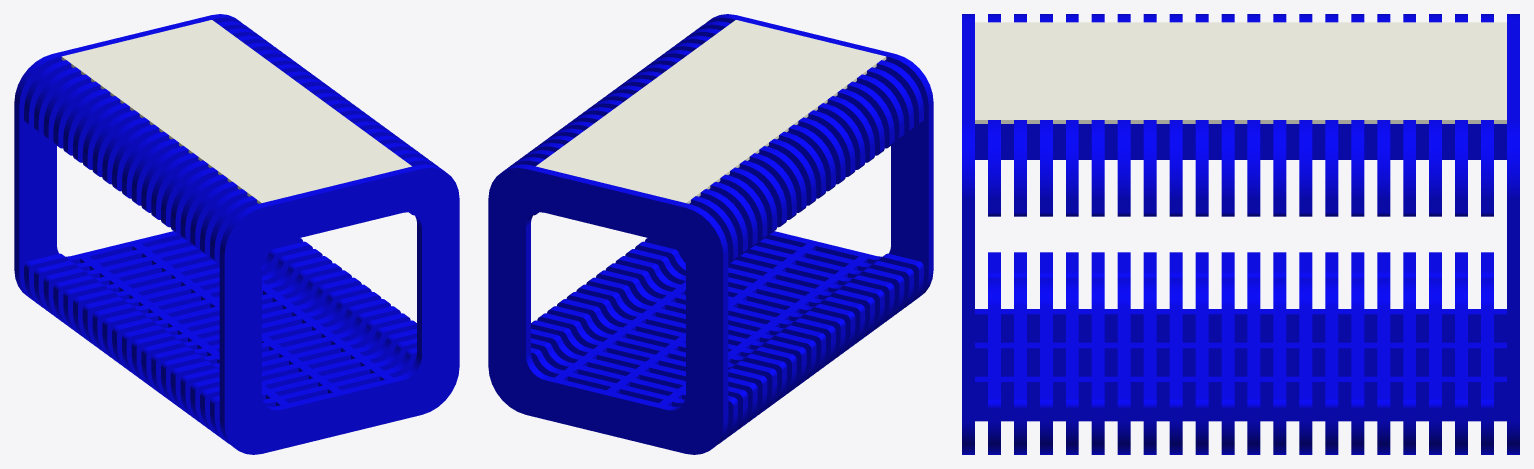
File: cube_1_bl_bone.glb
3 views of the same model, side by side, from view 1: azimuth 30°, elevation 25°; view 2: azimuth 150°, elevation 25°; view 3: azimuth 270°, elevation 25° (orthographic). The views are drawn at different scales.
Visible parts, largest first — view 1: EDUCT08-P1, glass_cube1, EDUCT08-P025, EDUCT08-P029, EDUCT08-P030, EDUCT08-P028, EDUCT08-P034, EDUCT08-P031, EDUCT08-P036, EDUCT08-P035, EDUCT08-P037, EDUCT08-P039 (+34 smaller); view 2: EDUCT08-P025, glass_cube1, EDUCT08-P1, EDUCT08-P042, EDUCT08-P041, EDUCT08-P043, EDUCT08-P037, EDUCT08-P035, EDUCT08-P040, EDUCT08-P036, EDUCT08-P034, EDUCT08-P032 (+34 smaller); view 3: glass_cube1, EDUCT08-P048, EDUCT08-P046, EDUCT08-P047, EDUCT08-P005, EDUCT08-P025, EDUCT08-P1, EDUCT08-P030, EDUCT08-P031, EDUCT08-P032, EDUCT08-P033, EDUCT08-P034 (+35 smaller).
Boxes of the visible parts, x1,y1,x2,y2 form: EDUCT08-P1: [219, 164, 459, 454]; glass_cube1: [61, 20, 411, 203]; EDUCT08-P025: [14, 14, 242, 300]; EDUCT08-P029: [180, 320, 416, 421]; EDUCT08-P030: [170, 313, 410, 414]; EDUCT08-P028: [190, 328, 416, 428]; EDUCT08-P034: [131, 284, 371, 386]; EDUCT08-P031: [161, 306, 400, 407]; EDUCT08-P036: [112, 270, 351, 371]; EDUCT08-P035: [122, 277, 361, 378]; EDUCT08-P037: [102, 263, 342, 364]; EDUCT08-P039: [82, 249, 322, 350]; EDUCT08-P025: [488, 164, 728, 454]; glass_cube1: [536, 20, 886, 203]; EDUCT08-P1: [705, 14, 933, 300]; EDUCT08-P042: [531, 320, 767, 421]; EDUCT08-P041: [537, 313, 777, 414]; EDUCT08-P043: [531, 328, 757, 428]; EDUCT08-P037: [576, 284, 816, 386]; EDUCT08-P035: [596, 270, 835, 371]; EDUCT08-P040: [547, 306, 786, 407]; EDUCT08-P036: [586, 277, 825, 378]; EDUCT08-P034: [605, 263, 845, 364]; EDUCT08-P032: [625, 249, 865, 350]; glass_cube1: [975, 22, 1506, 123]; EDUCT08-P048: [975, 376, 1506, 421]; EDUCT08-P046: [975, 342, 1506, 376]; EDUCT08-P047: [975, 309, 1506, 342]; EDUCT08-P005: [975, 124, 1506, 159]; EDUCT08-P025: [1507, 14, 1519, 454]; EDUCT08-P1: [962, 14, 974, 454]; EDUCT08-P030: [1091, 252, 1104, 454]; EDUCT08-P031: [1117, 252, 1130, 454]; EDUCT08-P032: [1143, 252, 1156, 454]; EDUCT08-P033: [1169, 252, 1182, 454]; EDUCT08-P034: [1195, 252, 1208, 454].
Size of the model in its own units: 0.5 by 0.5 by 0.774.
